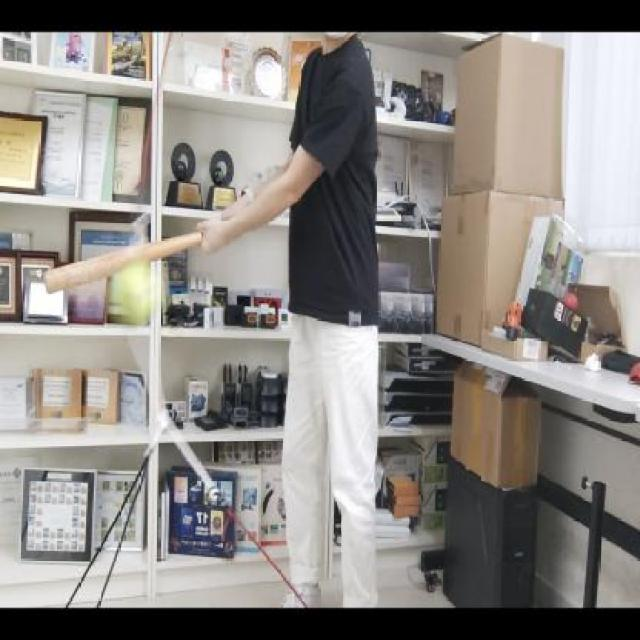baseball: (113, 256, 169, 327)
